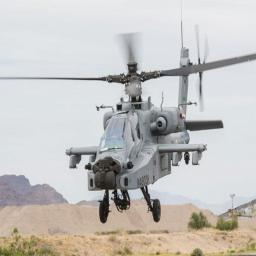helicopter: (26, 33, 251, 229)
